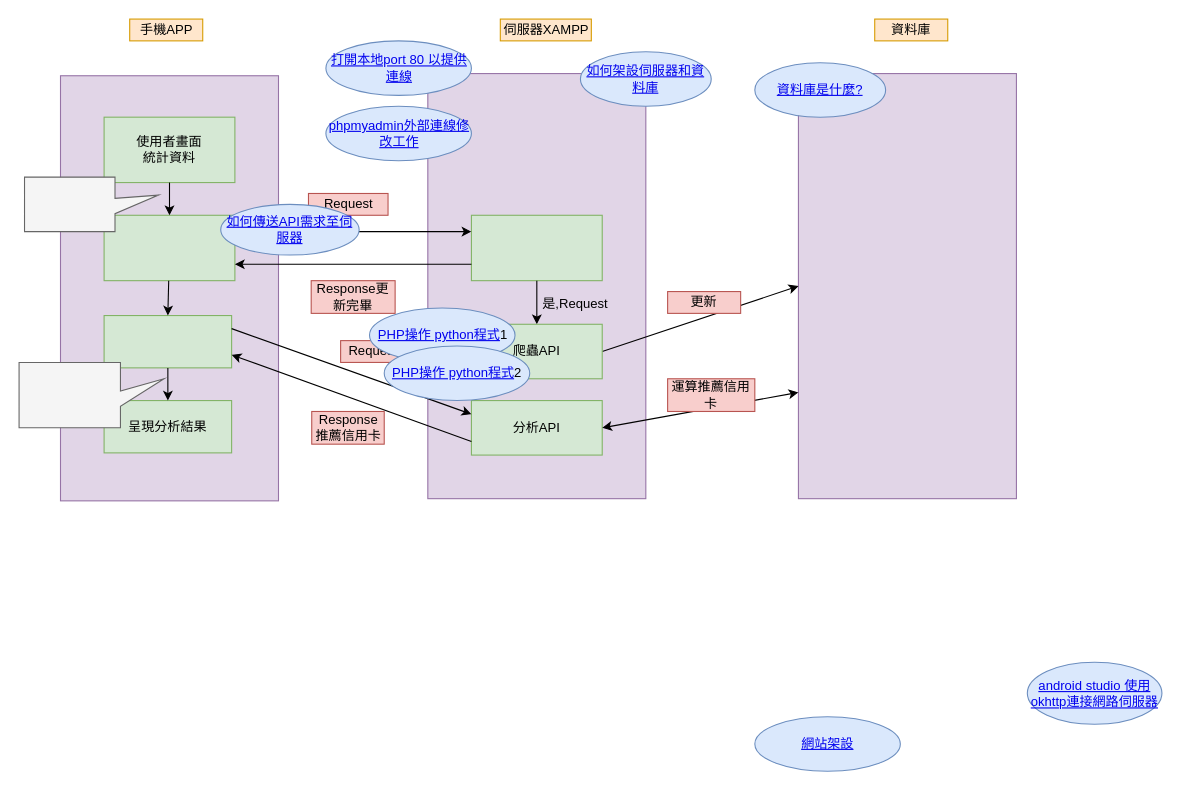
Some shapes in this 1182 by 790 pixel diagram are drawn without their labels. The shapes that lost their labels are listed below. From the top down, each one's box as (x1, y1, x2, y2) in pixels, then its label:
(23, 176, 159, 232): 傳送使用者需求資料(陣列結構)到下一服務
(103, 214, 235, 281): 傳送API需求 (查看資料是否需要更新)
(470, 214, 602, 281): 查看資料庫是否要更新API (PHP)
(103, 314, 232, 368): 傳送API需求 (分析需求至伺服器)
(18, 361, 164, 428): 傳送推薦信用卡資料集(陣列結構)到下服務
